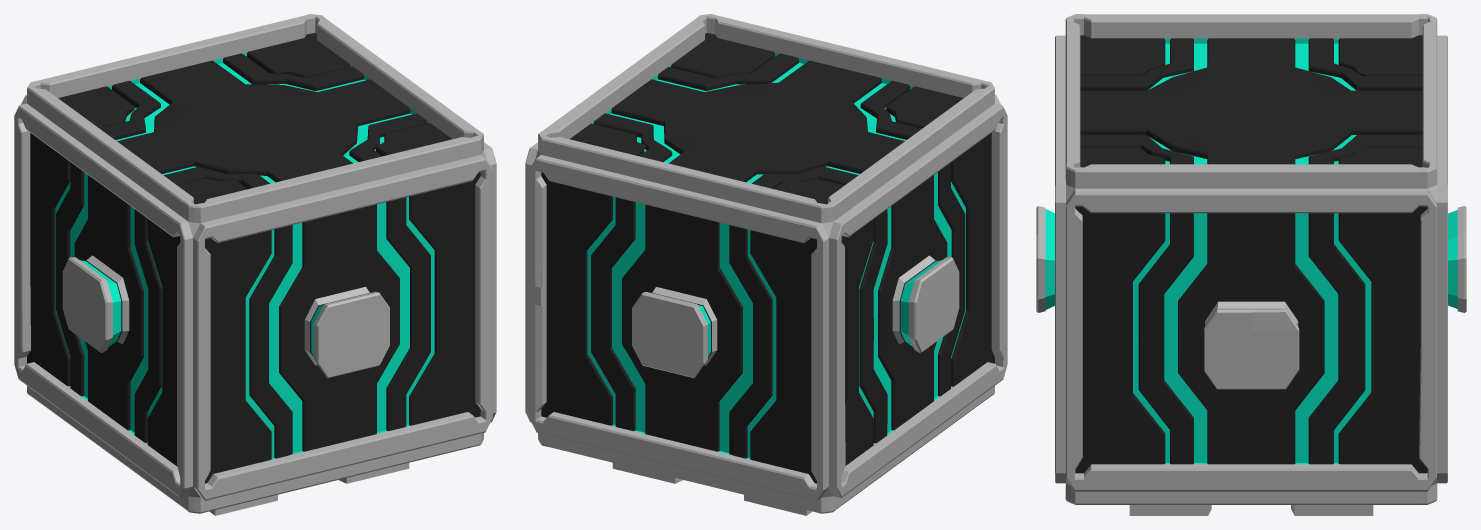
File: crate_heavy_02.FBX
The picture shows the model from 3 angles, left to right: view 1: azimuth 30°, elevation 25°; view 2: azimuth 150°, elevation 25°; view 3: azimuth 270°, elevation 25°; orthographic projection. The views are drawn at different scales.
Visible parts, largest first — view 1: crate_heavy_02; view 2: crate_heavy_02; view 3: crate_heavy_02.
Part boxes in pixels (bbox=[...]): crate_heavy_02: bbox=[14, 14, 496, 515]; crate_heavy_02: bbox=[525, 14, 1007, 515]; crate_heavy_02: bbox=[1036, 14, 1466, 515].
Bounding box in the file's own units: 354 × 337 × 354.
